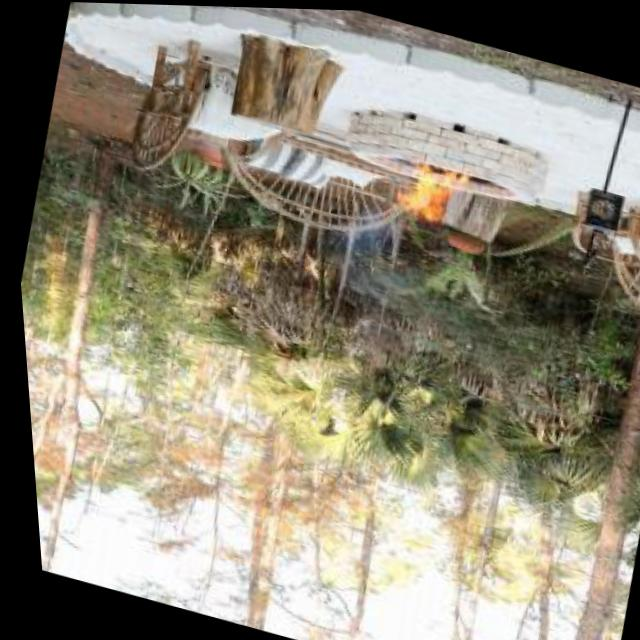Fire: (388, 152, 472, 229)
